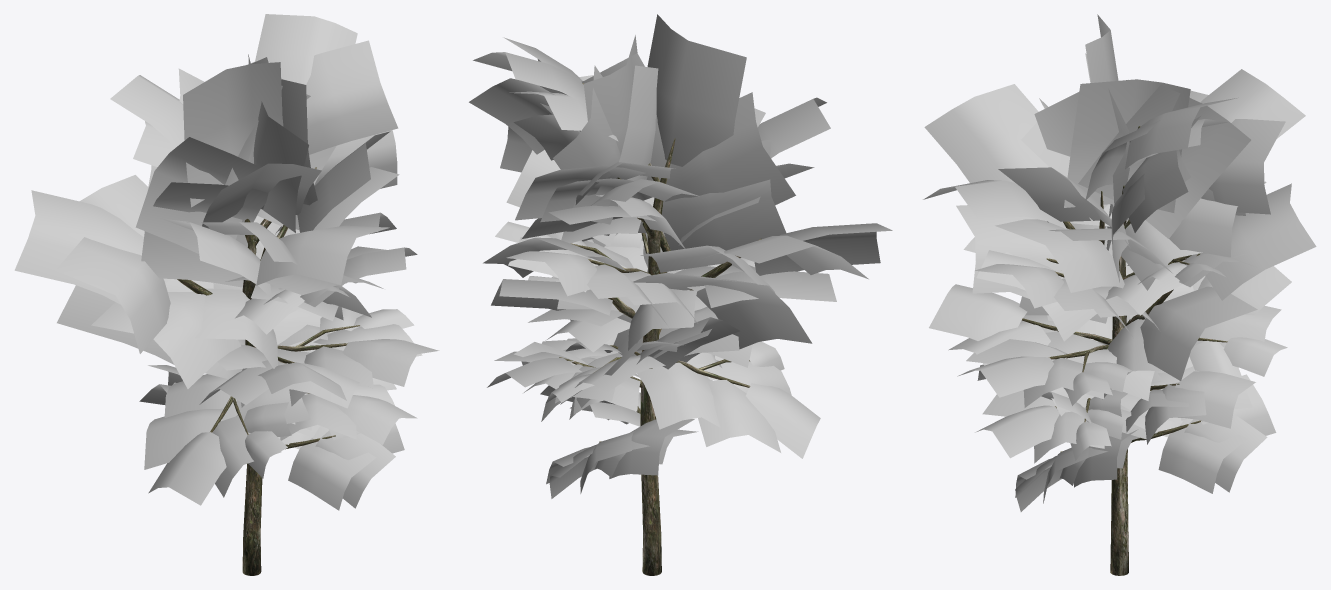
Rendered from VillageTreeB.dae.
The picture shows the model from 3 angles, left to right: view 1: azimuth 30°, elevation 25°; view 2: azimuth 150°, elevation 25°; view 3: azimuth 270°, elevation 25°; orthographic projection. The views are drawn at different scales.
Visible parts, largest first — view 1: meshU3D; view 2: meshU3D; view 3: meshU3D.
Boxes of the visible parts, x1,y1,x2,y2 form: meshU3D: [14, 14, 439, 575]; meshU3D: [469, 14, 892, 575]; meshU3D: [923, 14, 1316, 575].
Bounding box in the file's own units: 200 × 269 × 180.
